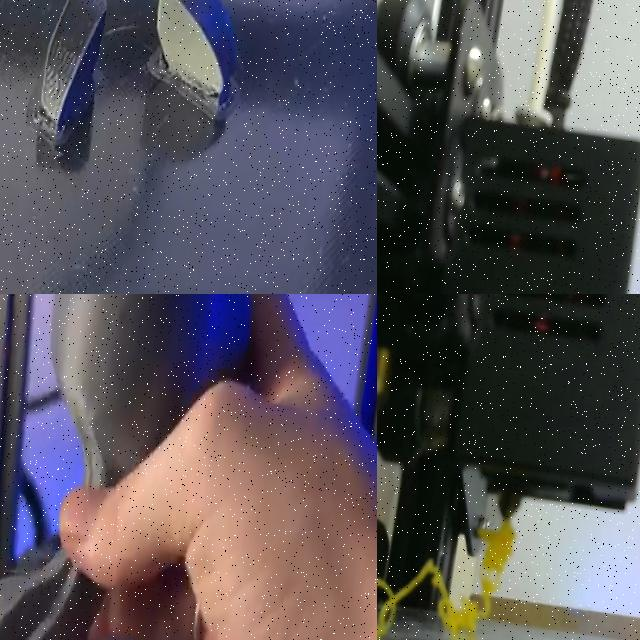spaghetti: (377, 520, 515, 640)
